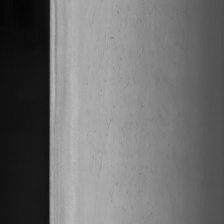silk_spot: (83, 0, 153, 181)
